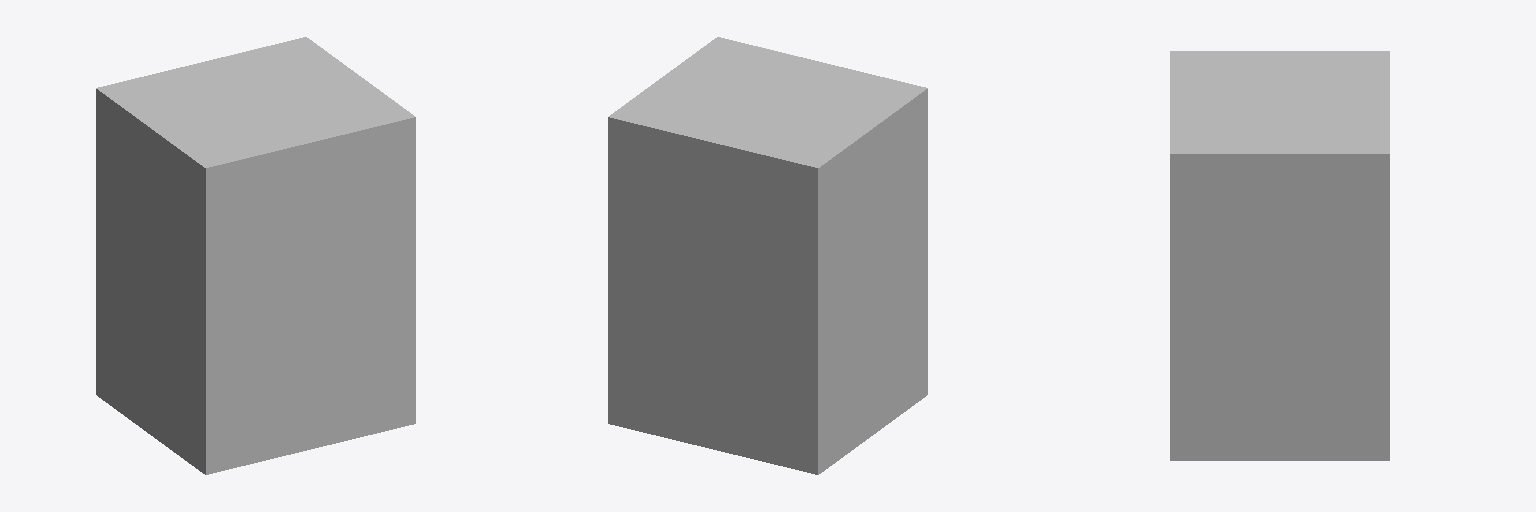
Rendered from d25t_breech.obj.
3 views of the same model, side by side, from view 1: azimuth 30°, elevation 25°; view 2: azimuth 150°, elevation 25°; view 3: azimuth 270°, elevation 25° (orthographic).
Parts seen in each view (by area): view 1: Казённик; view 2: Казённик; view 3: Казённик.
Boxes of the visible parts, x1,y1,x2,y2 form: Казённик: [96, 37, 415, 474]; Казённик: [608, 37, 927, 474]; Казённик: [1170, 51, 1389, 460].
Bounding box in the file's own units: 2 × 2.78 × 1.8.